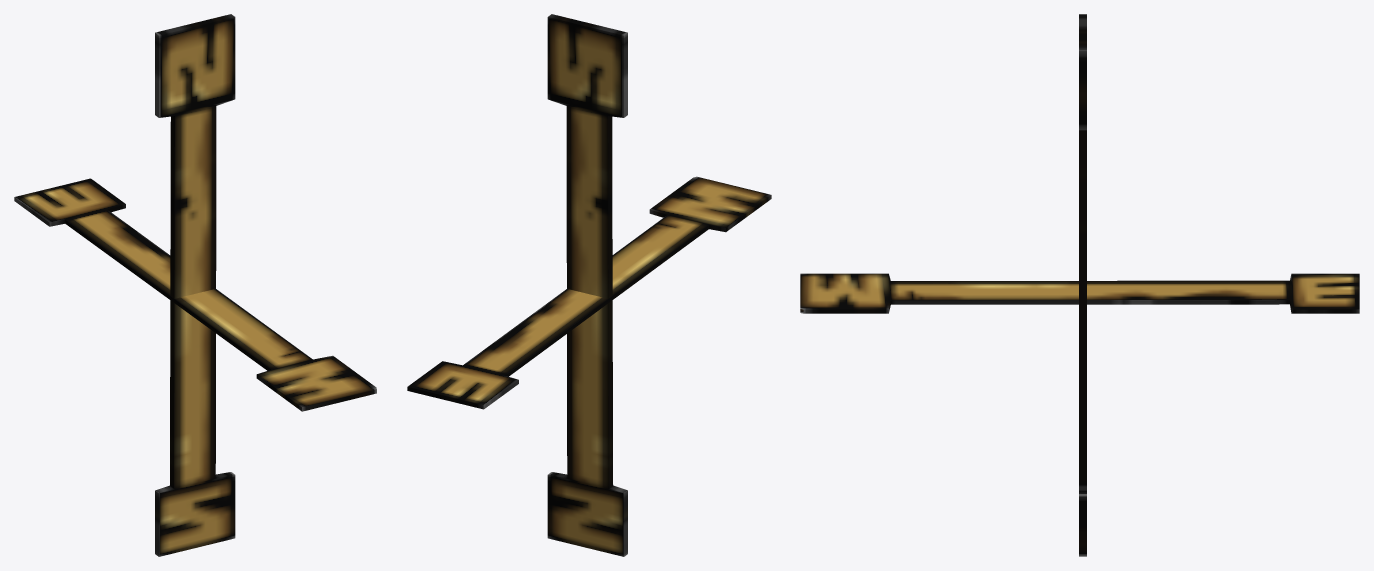
File: Złoty_kurczak_krzyżak.fbx
3 renders of one model, left to right at view 1: azimuth 30°, elevation 25°; view 2: azimuth 150°, elevation 25°; view 3: azimuth 270°, elevation 25°, orthographic. The views are drawn at different scales.
Parts seen in each view (by area): view 1: Złoty kurczak krzyżak; view 2: Złoty kurczak krzyżak; view 3: Złoty kurczak krzyżak.
Boxes of the visible parts, x1,y1,x2,y2 form: Złoty kurczak krzyżak: (14, 14, 376, 556); Złoty kurczak krzyżak: (407, 14, 771, 556); Złoty kurczak krzyżak: (800, 14, 1359, 556).
Size of the model in its own units: 26.84 by 175 by 175.
